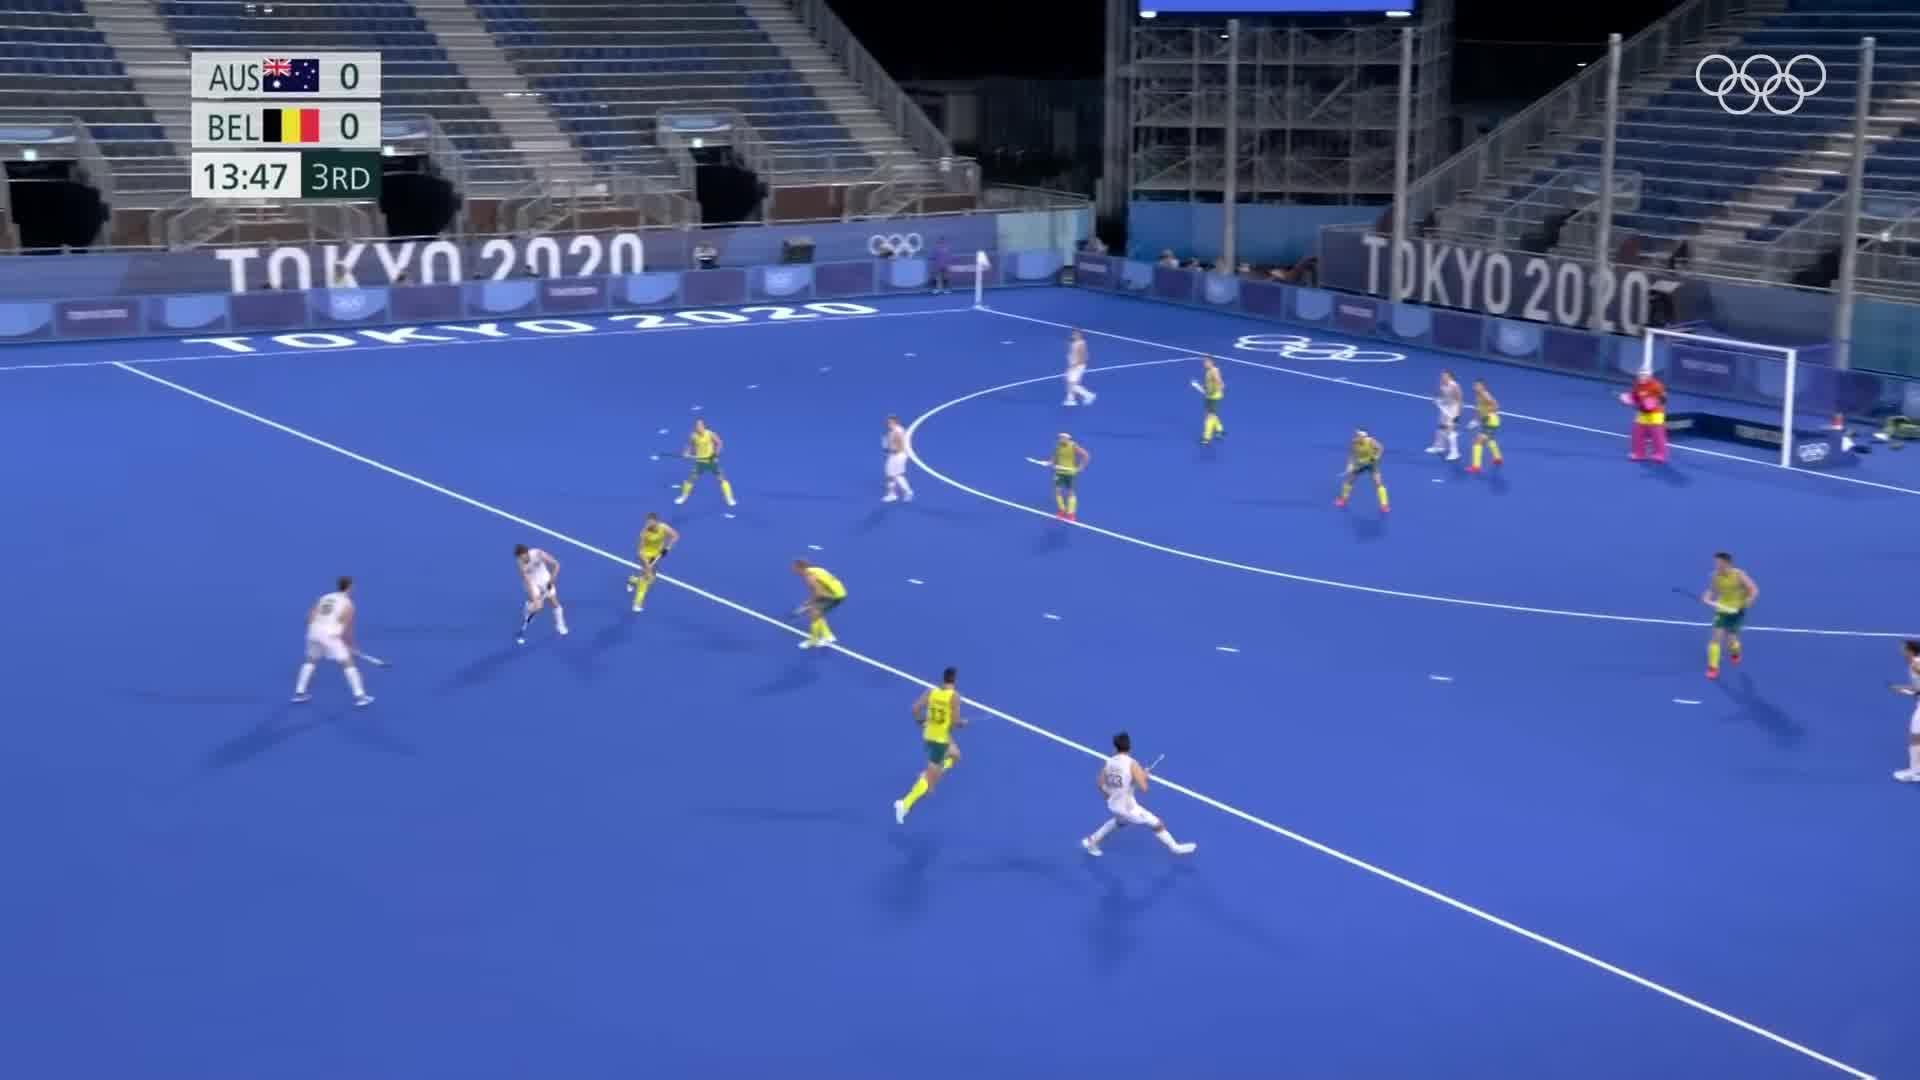ball: (514, 634, 531, 653)
